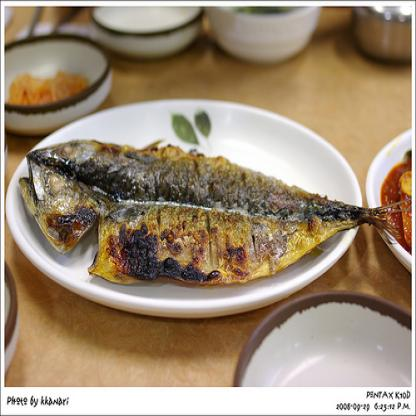Peixe: (0, 139, 399, 312)
